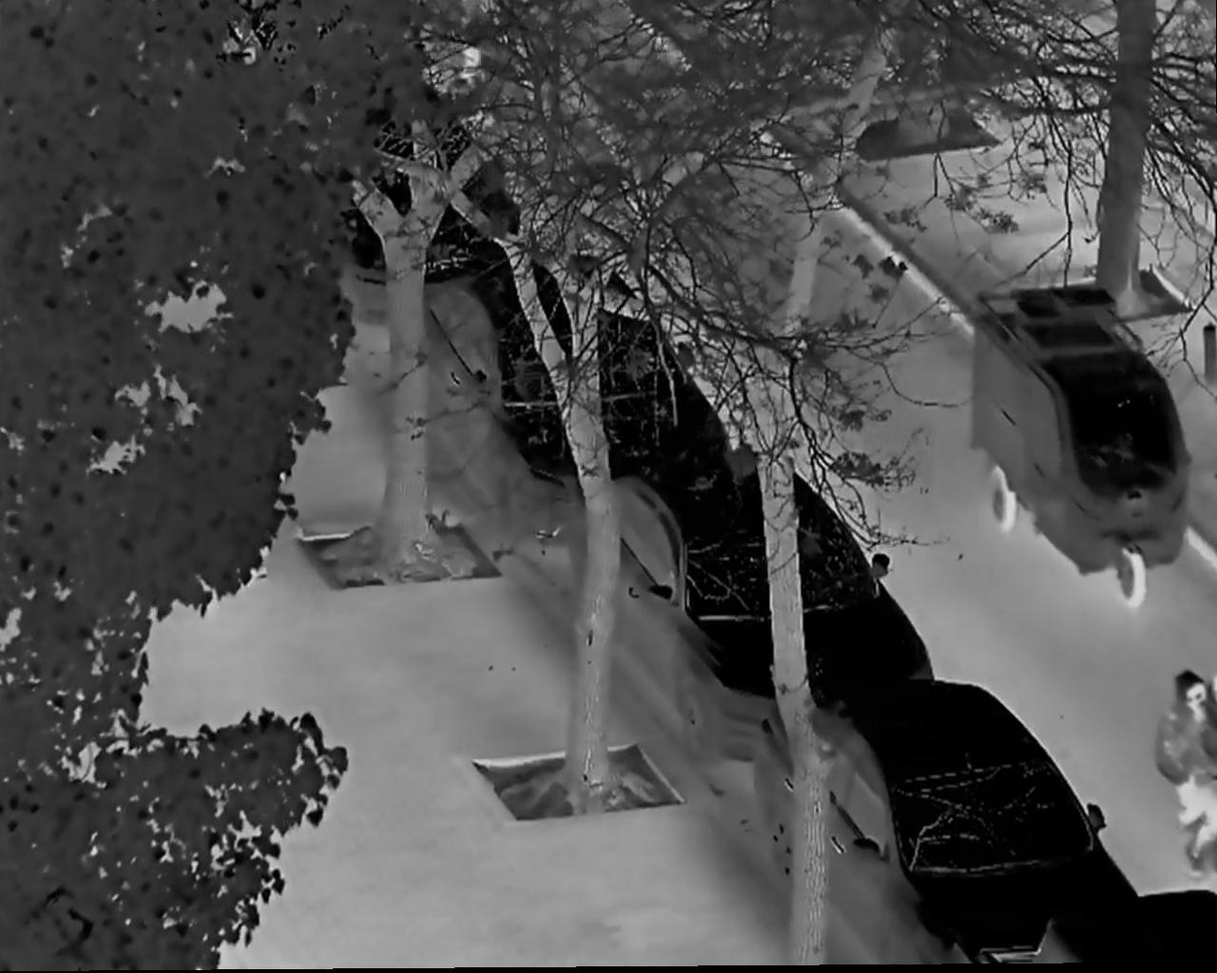person: (1145, 670, 1208, 836)
